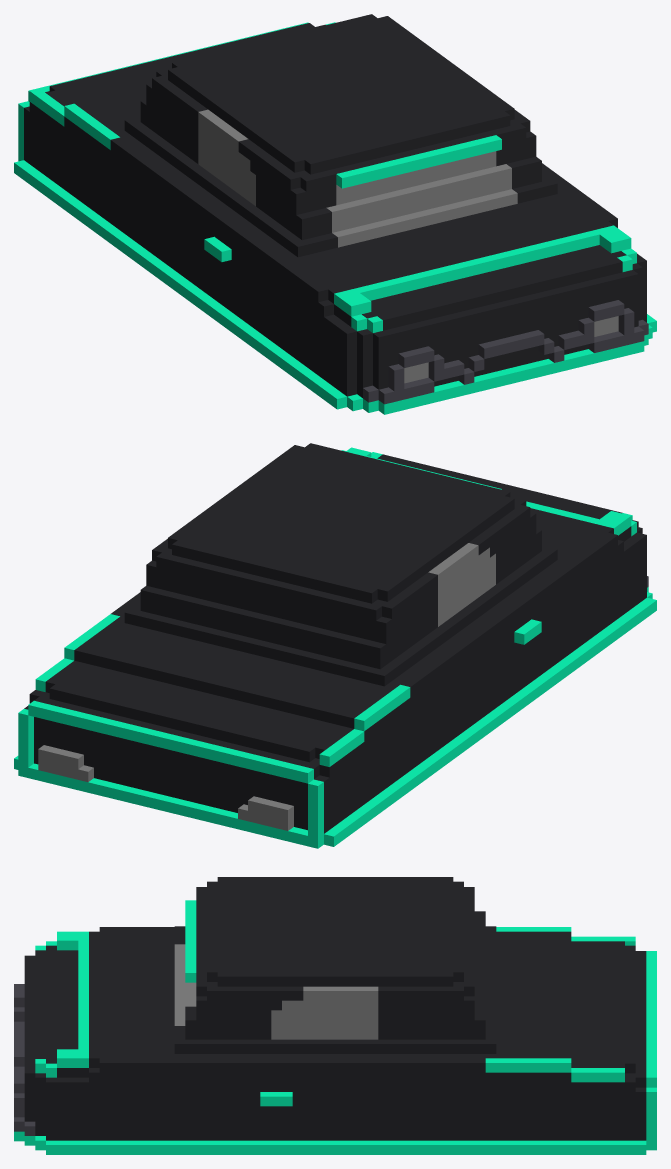
File: Car_001.obj
The picture shows the model from 3 angles, top to bottom: view 1: azimuth 30°, elevation 25°; view 2: azimuth 150°, elevation 25°; view 3: azimuth 270°, elevation 25°; orthographic projection. The views are drawn at different scales.
Bounding box in the file's own units: 3.2 × 1.8 × 6.
Materials: 1 (1 with a texture image).
